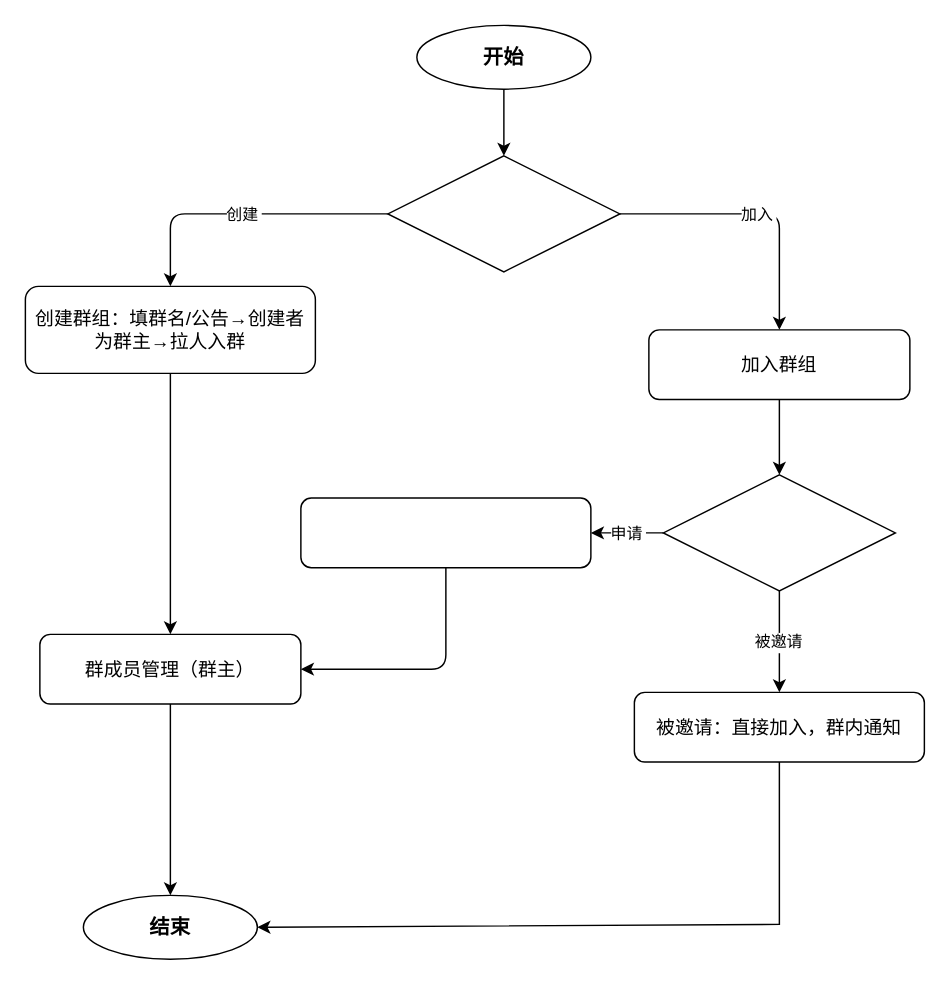
Image size: 950x985. Some labels were removed from this diagram. The centre of each missing label's shape, as x and y in pixels:
加入方式？: point (778, 532)
申请加入：群主审核→同意/拒绝: point (445, 532)
群组操作类型？: point (503, 213)
